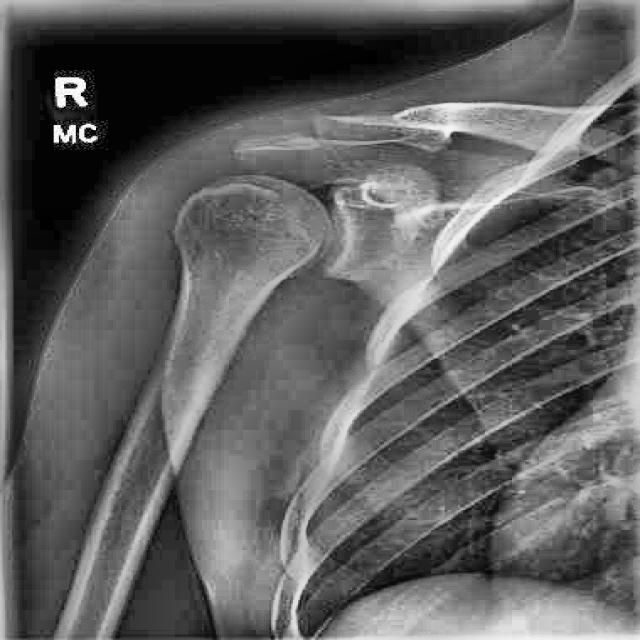shoulder fracture: (368, 89, 481, 164)
